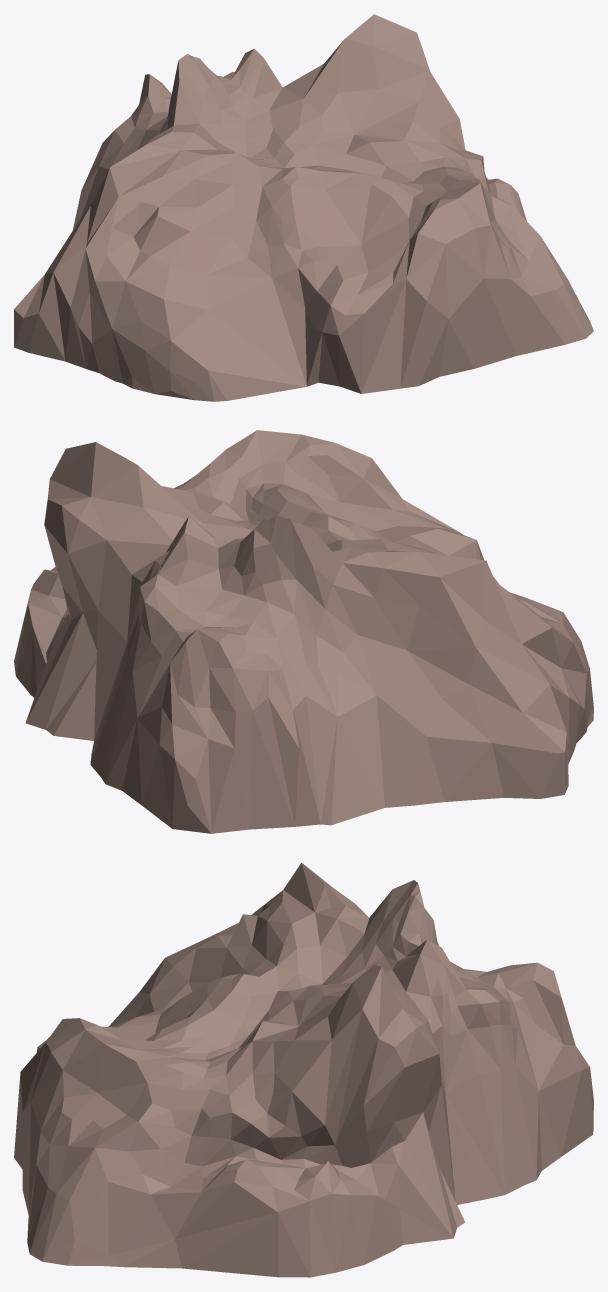
File: mountain_006.fbx
3 views of the same model, one above another, from view 1: azimuth 30°, elevation 25°; view 2: azimuth 150°, elevation 25°; view 3: azimuth 270°, elevation 25° (orthographic). The views are drawn at different scales.
Parts seen in each view (by area): view 1: mountain.006; view 2: mountain.006; view 3: mountain.006.
Part boxes in pixels (box(x1,y1,x2,y2)): mountain.006: box(14, 14, 593, 401); mountain.006: box(14, 430, 593, 833); mountain.006: box(14, 862, 593, 1277).
Size of the model in its own units: 5639 by 2526 by 5190.
1 material, 1 textured.
